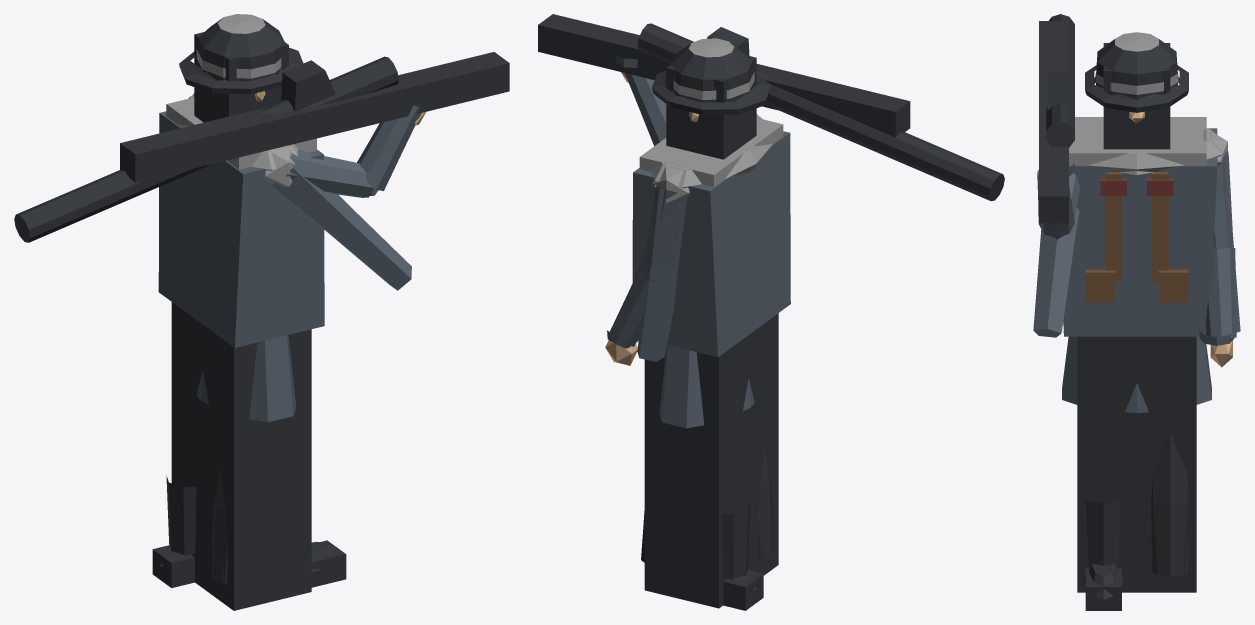
File: veyran_rocket_trooper.glb
3 renders of one model, left to right at view 1: azimuth 30°, elevation 25°; view 2: azimuth 150°, elevation 25°; view 3: azimuth 270°, elevation 25°, orthographic. The views are drawn at different scales.
Visible parts, largest first — view 1: arm_r (×3), leg_l (×3), torso (×2), head (×2), leg_r (×2); view 2: leg_l (×3), torso (×2), arm_r (×2), head (×2), arm_l (×2), leg_r; view 3: torso (×3), leg_l (×2), arm_r (×3), head (×2), arm_l (×2), leg_r (×2).
Part boxes in pixels (left/top/right/bottom): arm_r (×3): left=14, top=52, right=509, bottom=290; leg_l (×3): left=152, top=302, right=311, bottom=610; torso (×2): left=158, top=95, right=324, bottom=422; head (×2): left=179, top=14, right=303, bottom=122; leg_r (×2): left=210, top=468, right=346, bottom=587; leg_l (×3): left=641, top=313, right=778, bottom=610; torso (×2): left=632, top=116, right=790, bottom=428; arm_r (×2): left=538, top=14, right=1004, bottom=201; head (×2): left=651, top=38, right=771, bottom=159; arm_l (×2): left=605, top=162, right=689, bottom=365; leg_r: left=757, top=448, right=773, bottom=558; torso (×3): left=1062, top=117, right=1223, bottom=412; leg_l (×2): left=1077, top=336, right=1196, bottom=592; arm_r (×3): left=1033, top=14, right=1080, bottom=337; head (×2): left=1085, top=32, right=1188, bottom=149; arm_l (×2): left=1199, top=128, right=1240, bottom=367; leg_r (×2): left=1084, top=500, right=1123, bottom=610.
Bounding box in the file's own units: 1.6 × 1.77 × 0.6243.
